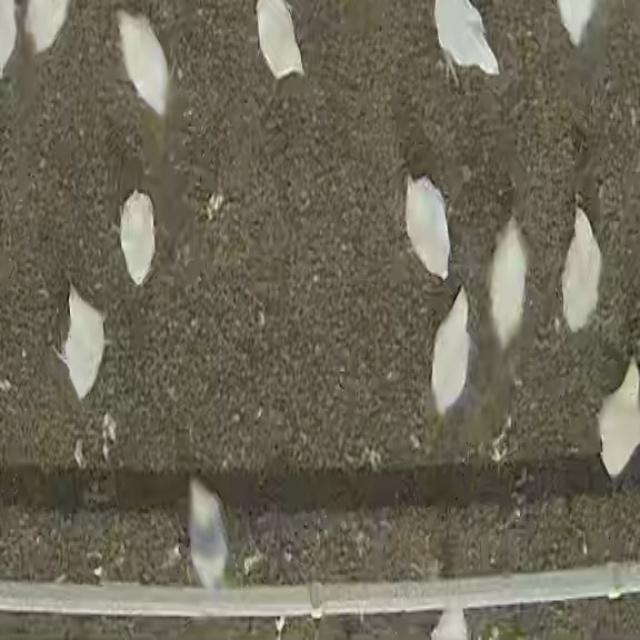chicken: (115, 11, 172, 122), (59, 287, 107, 404), (596, 356, 640, 483), (488, 218, 528, 354), (430, 292, 472, 421), (560, 207, 602, 335), (186, 481, 233, 595), (433, 1, 498, 83), (405, 176, 451, 282), (254, 1, 305, 82), (121, 192, 156, 283)
